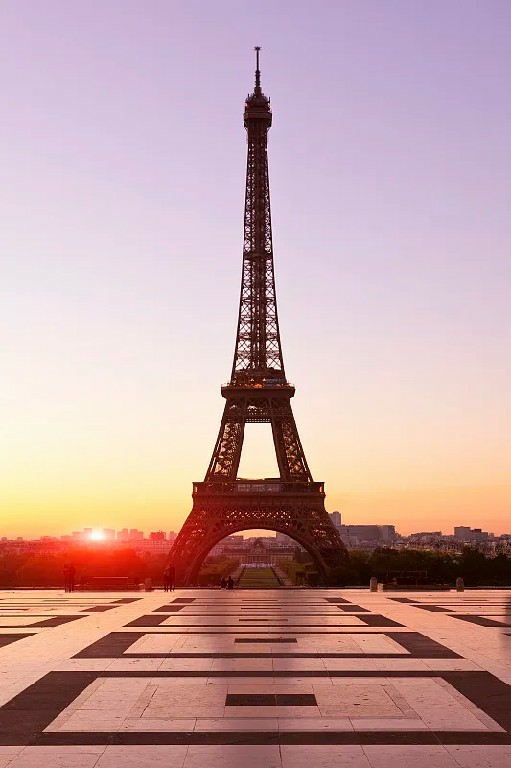Eiffel: (158, 46, 348, 584)
